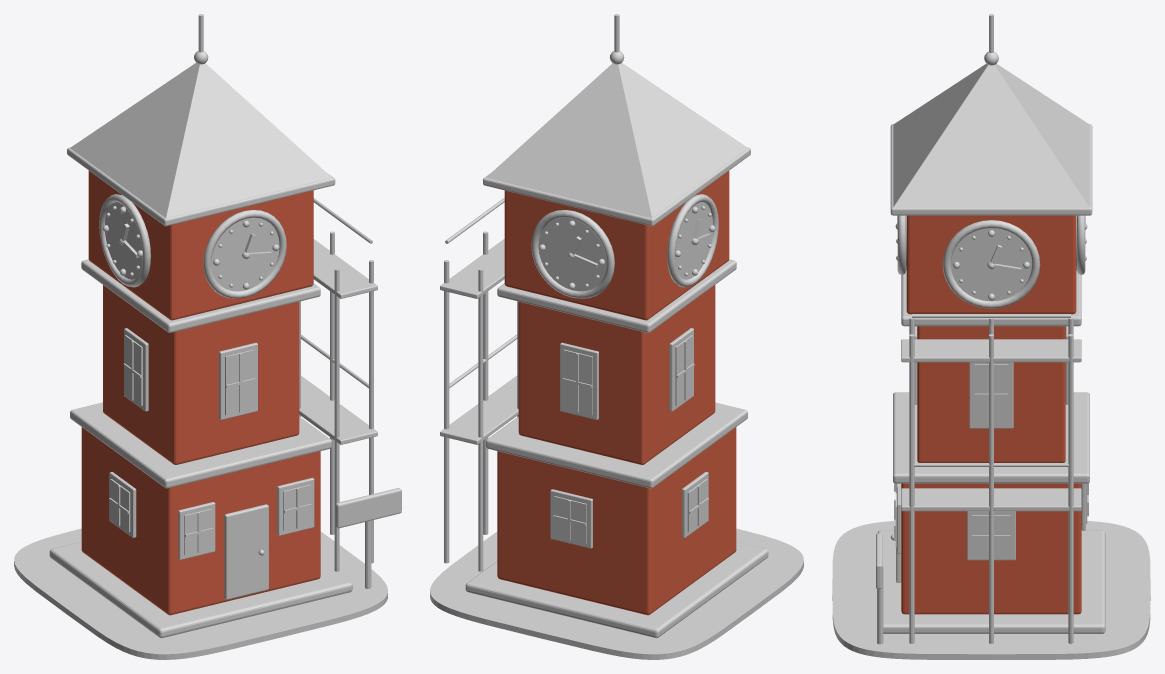
File: clock-tower-stage-3-merged.46bf2106.glb
The picture shows the model from 3 angles, left to right: view 1: azimuth 30°, elevation 25°; view 2: azimuth 150°, elevation 25°; view 3: azimuth 270°, elevation 25°; orthographic projection. The views are drawn at different scales.
Visible parts, largest first — view 1: ClockTower_Stage3__T_vcol, ClockTower_Stage3__T_brickwall; view 2: ClockTower_Stage3__T_vcol, ClockTower_Stage3__T_brickwall; view 3: ClockTower_Stage3__T_vcol, ClockTower_Stage3__T_brickwall.
Part boxes in pixels (x1=…): ClockTower_Stage3__T_vcol: x1=14, y1=14, x2=401, y2=659; ClockTower_Stage3__T_brickwall: x1=81, y1=171, x2=320, y2=615; ClockTower_Stage3__T_vcol: x1=430, y1=14, x2=803, y2=659; ClockTower_Stage3__T_brickwall: x1=497, y1=171, x2=736, y2=615; ClockTower_Stage3__T_vcol: x1=832, y1=14, x2=1150, y2=659; ClockTower_Stage3__T_brickwall: x1=901, y1=215, x2=1081, y2=614.
Size of the model in its own units: 4.98 by 9.62 by 4.8.
